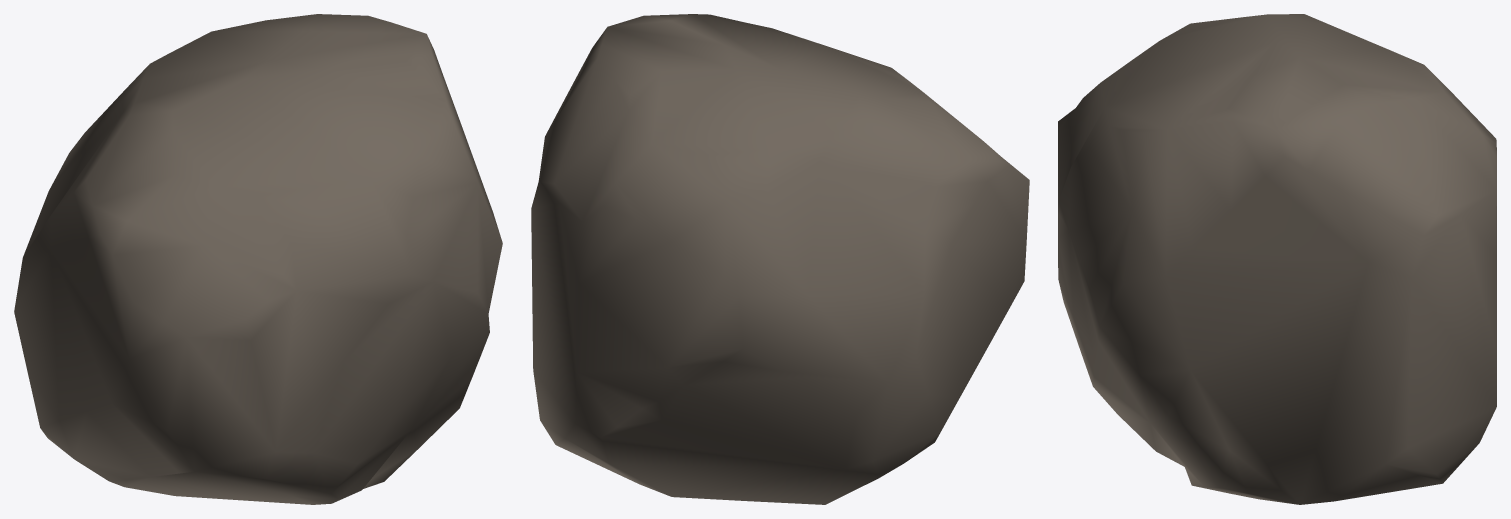
The model's file is rock-1.glb.
3 views of the same model, side by side, from view 1: azimuth 30°, elevation 25°; view 2: azimuth 150°, elevation 25°; view 3: azimuth 270°, elevation 25° (orthographic). The views are drawn at different scales.
Visible parts, largest first — view 1: SM_Rock_Boulder_01; view 2: SM_Rock_Boulder_01; view 3: SM_Rock_Boulder_01.
Boxes of the visible parts, x1=… form: SM_Rock_Boulder_01: x1=14, y1=14, x2=502, y2=504; SM_Rock_Boulder_01: x1=531, y1=14, x2=1029, y2=504; SM_Rock_Boulder_01: x1=1058, y1=14, x2=1496, y2=504.
Size of the model in its own units: 0.533 by 0.533 by 0.533.
1 material, 1 textured.
